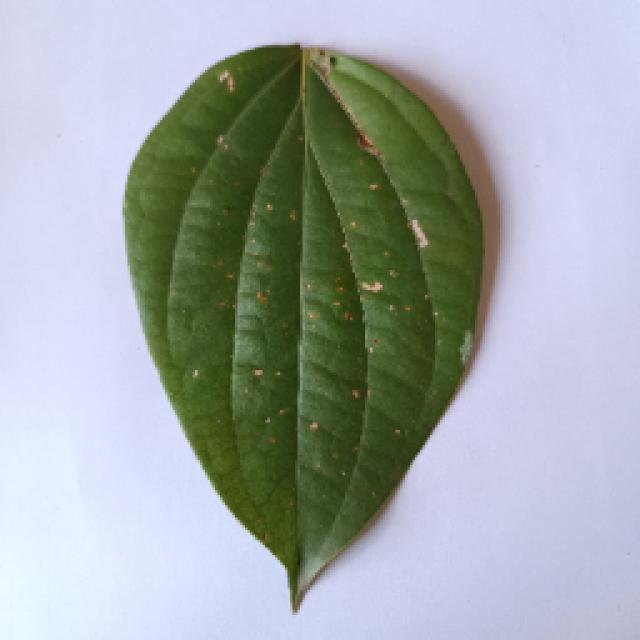pollu-disease: (82, 53, 512, 615)
